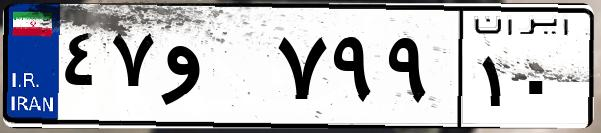0: (525, 38, 570, 115)
1: (475, 38, 525, 113)
4: (57, 26, 110, 100)
7: (270, 28, 330, 110), (110, 28, 158, 98)
9: (385, 28, 445, 110), (330, 28, 385, 110)
و: (158, 20, 270, 120)
